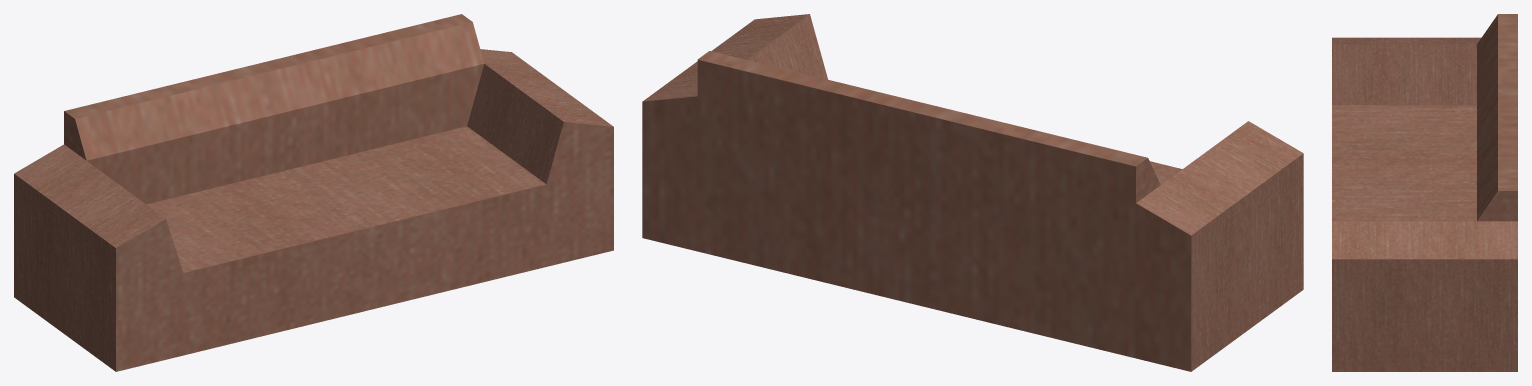
The model's file is Couch_5.fbx.
3 renders of one model, left to right at view 1: azimuth 30°, elevation 25°; view 2: azimuth 150°, elevation 25°; view 3: azimuth 270°, elevation 25°, orthographic. The views are drawn at different scales.
Parts seen in each view (by area): view 1: Sofa_Red_01; view 2: Sofa_Red_01; view 3: Sofa_Red_01.
Boxes of the visible parts, box(x1,y1,x2,y2) form: Sofa_Red_01: box(14, 14, 613, 371); Sofa_Red_01: box(642, 14, 1303, 371); Sofa_Red_01: box(1332, 14, 1517, 371).
Size of the model in its own units: 3.36 by 1.12 by 1.19.
